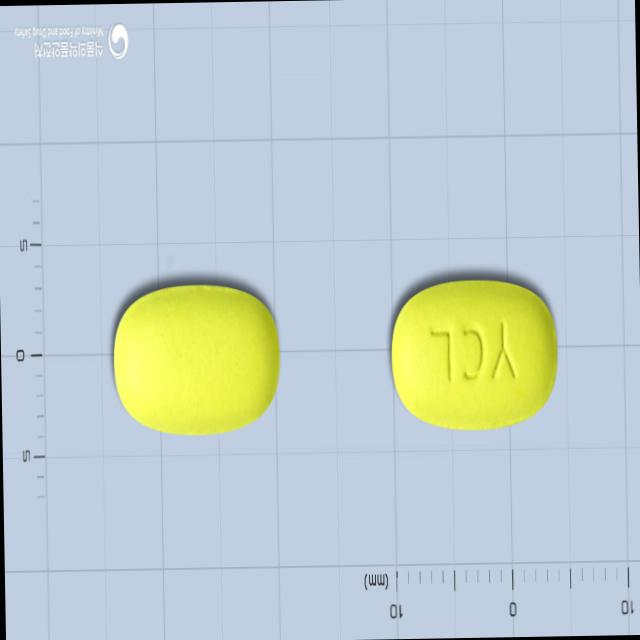Youngpoong Clarithromycin Tab: (390, 277, 560, 431)
